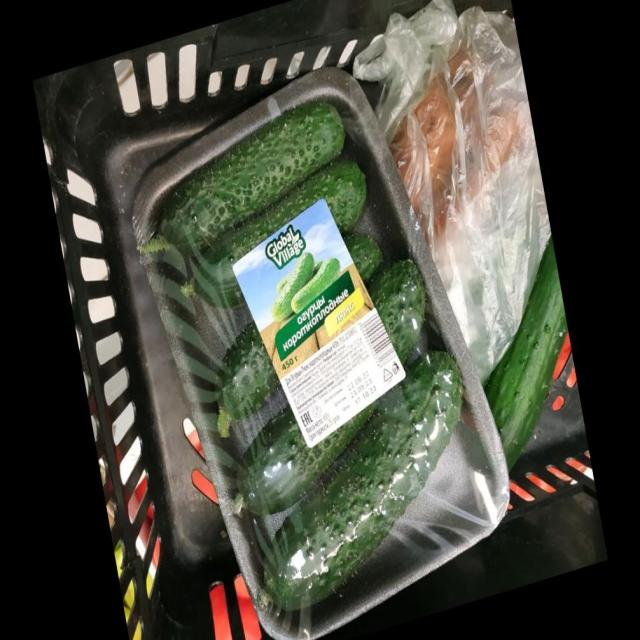carrot: (226, 96, 640, 248)
cucumber: (252, 232, 640, 640), (211, 169, 637, 467), (154, 245, 438, 640), (107, 214, 355, 630), (122, 234, 354, 640), (193, 130, 570, 373), (88, 144, 276, 440), (63, 129, 232, 374)
